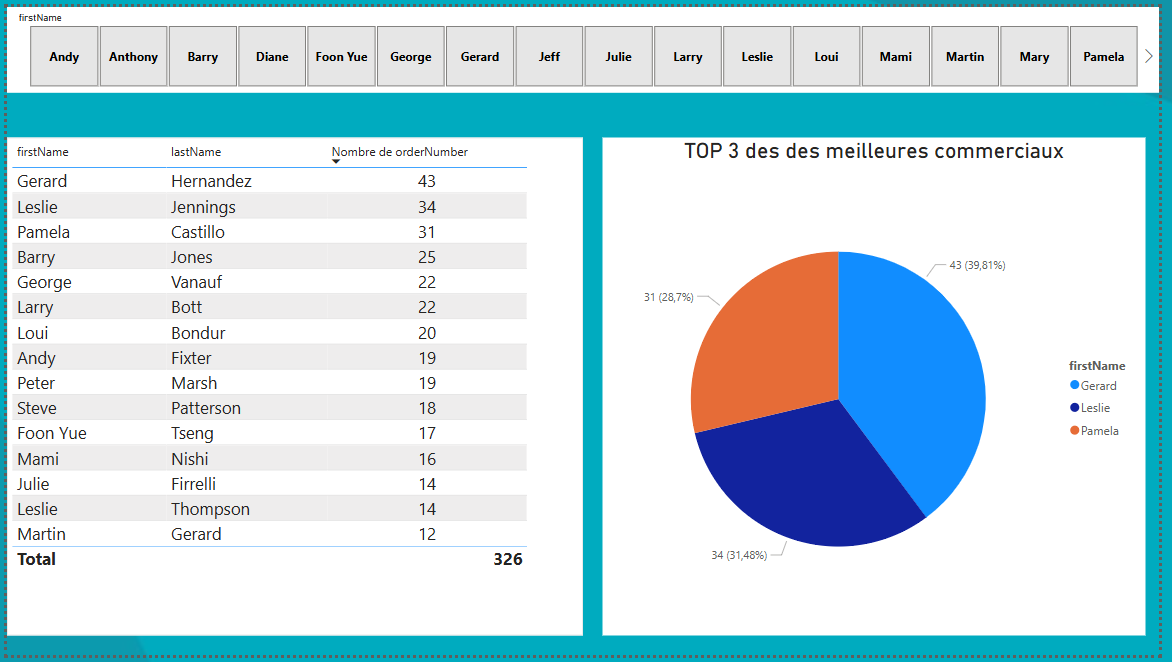

The dashboard page shown, as its layout file describes it:
{"tool":"powerbi","page":{"name":"QUESTION 2","canvas":[1280,720],"ordinal":2},"visuals":[{"type":"pieChart","title":"TOP 3 des des meilleures commerciaux ","fields":{"Category":["datawarehouse dim_employees.firstName"],"Series":["datawarehouse dim_employees.lastName"],"Y":["Count(datawarehouse fact_orderdetails.orderNumber)"]},"box":[686.1,220.6,594.4,499.9],"z":0},{"type":"slicer","fields":{"Values":["datawarehouse dim_employees.firstName"]},"box":[0,0,1280,123.3],"z":1000},{"type":"tableEx","fields":{"Values":["datawarehouse dim_employees.firstName","datawarehouse dim_employees.lastName","Count(datawarehouse fact_orderdetails.orderNumber)"]},"box":[0,193.4,638.8,527.1],"z":2000}]}

Visuals, with their boxes in screenshot pixels (x1, y1, x2, y2), scaled from the page's 1280x720 canvas onto the 1172x662 screenshot:
"TOP 3 des des meilleures commerciaux " pieChart: 628/203/1171/661
slicer - datawarehouse dim_employees.firstName: 0/0/1171/113
tableEx - datawarehouse dim_employees.firstName x datawarehouse dim_employees.lastName: 0/178/585/661
